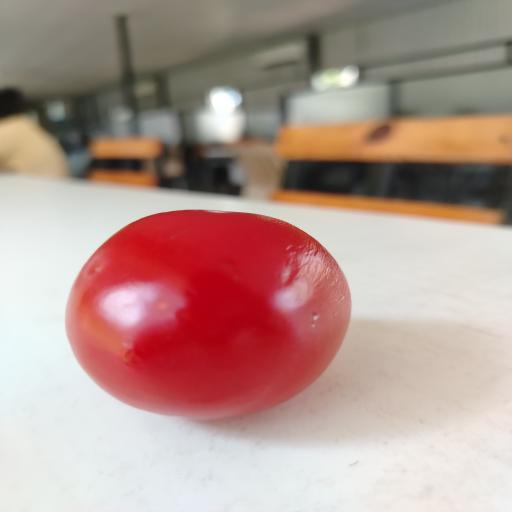ripe: (66, 210, 351, 418)
